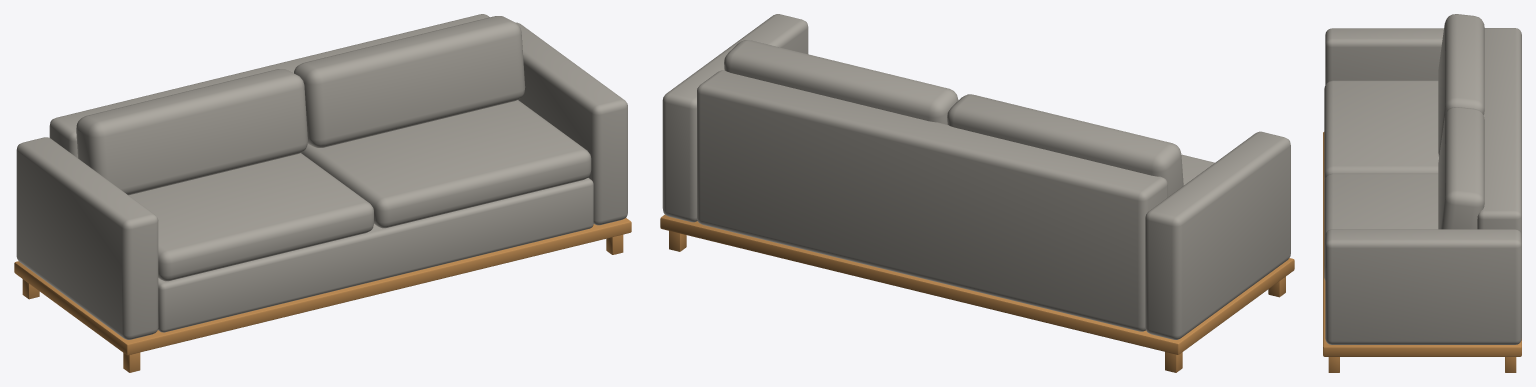
Rendered from wood-frame-3-seat-sofa.glb.
3 views of the same model, side by side, from view 1: azimuth 30°, elevation 25°; view 2: azimuth 150°, elevation 25°; view 3: azimuth 270°, elevation 25° (orthographic). The views are drawn at different scales.
Parts seen in each view (by area): view 1: wood-frame-3-seat-sofa; view 2: wood-frame-3-seat-sofa; view 3: wood-frame-3-seat-sofa.
Part boxes in pixels (bbox=[...]): wood-frame-3-seat-sofa: bbox=[14, 14, 631, 372]; wood-frame-3-seat-sofa: bbox=[660, 14, 1294, 372]; wood-frame-3-seat-sofa: bbox=[1323, 14, 1521, 372].
Size of the model in its own units: 2.29 by 0.8128 by 0.889.
